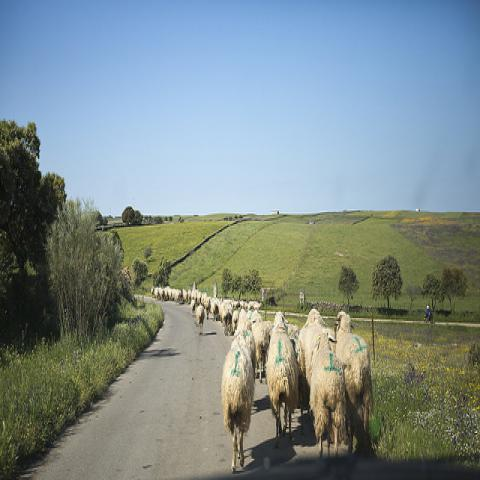motorcycle: (424, 310, 433, 323)
